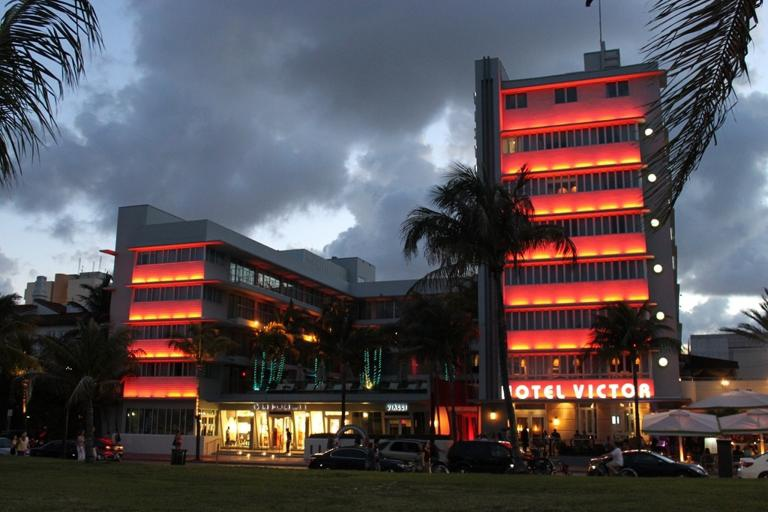non-vehicle: (588, 455, 638, 477), (502, 454, 553, 474)
